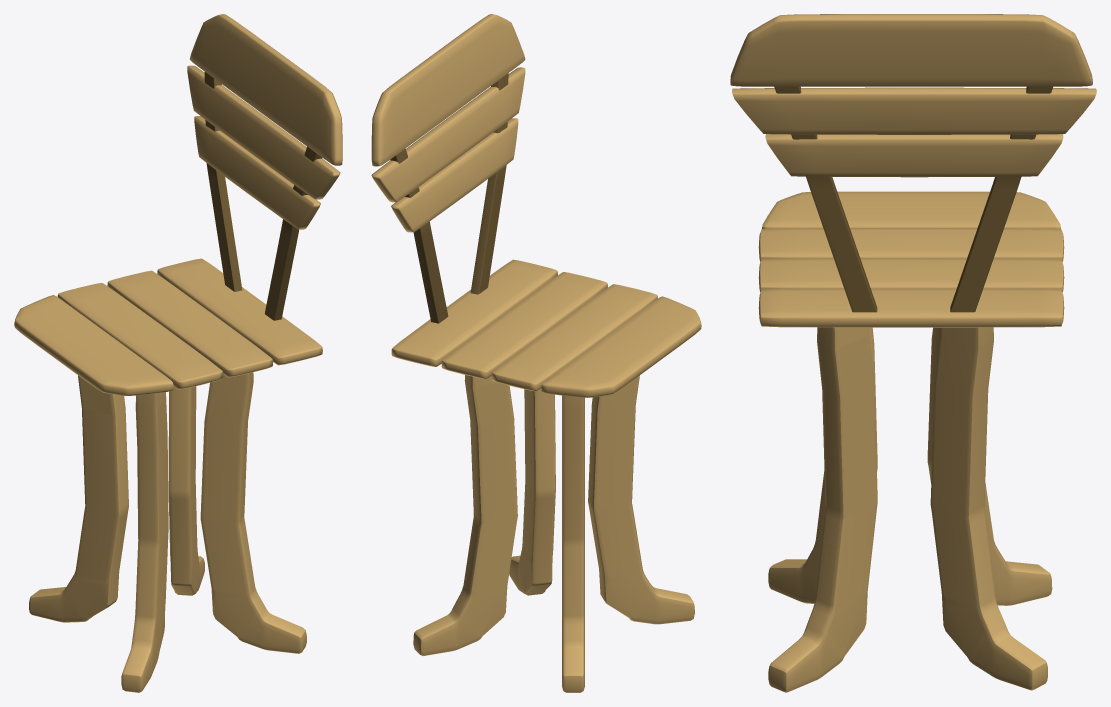
Rendered from outside chair.fbx.
The picture shows the model from 3 angles, left to right: view 1: azimuth 30°, elevation 25°; view 2: azimuth 150°, elevation 25°; view 3: azimuth 270°, elevation 25°; orthographic projection. The views are drawn at different scales.
Parts seen in each view (by area): view 1: pCube369; view 2: pCube369; view 3: pCube369.
Part boxes in pixels (bbox=[...]): pCube369: bbox=[14, 14, 342, 692]; pCube369: bbox=[371, 14, 701, 692]; pCube369: bbox=[730, 14, 1096, 692].
Bounding box in the file's own units: 72.96 × 173 × 83.38.
